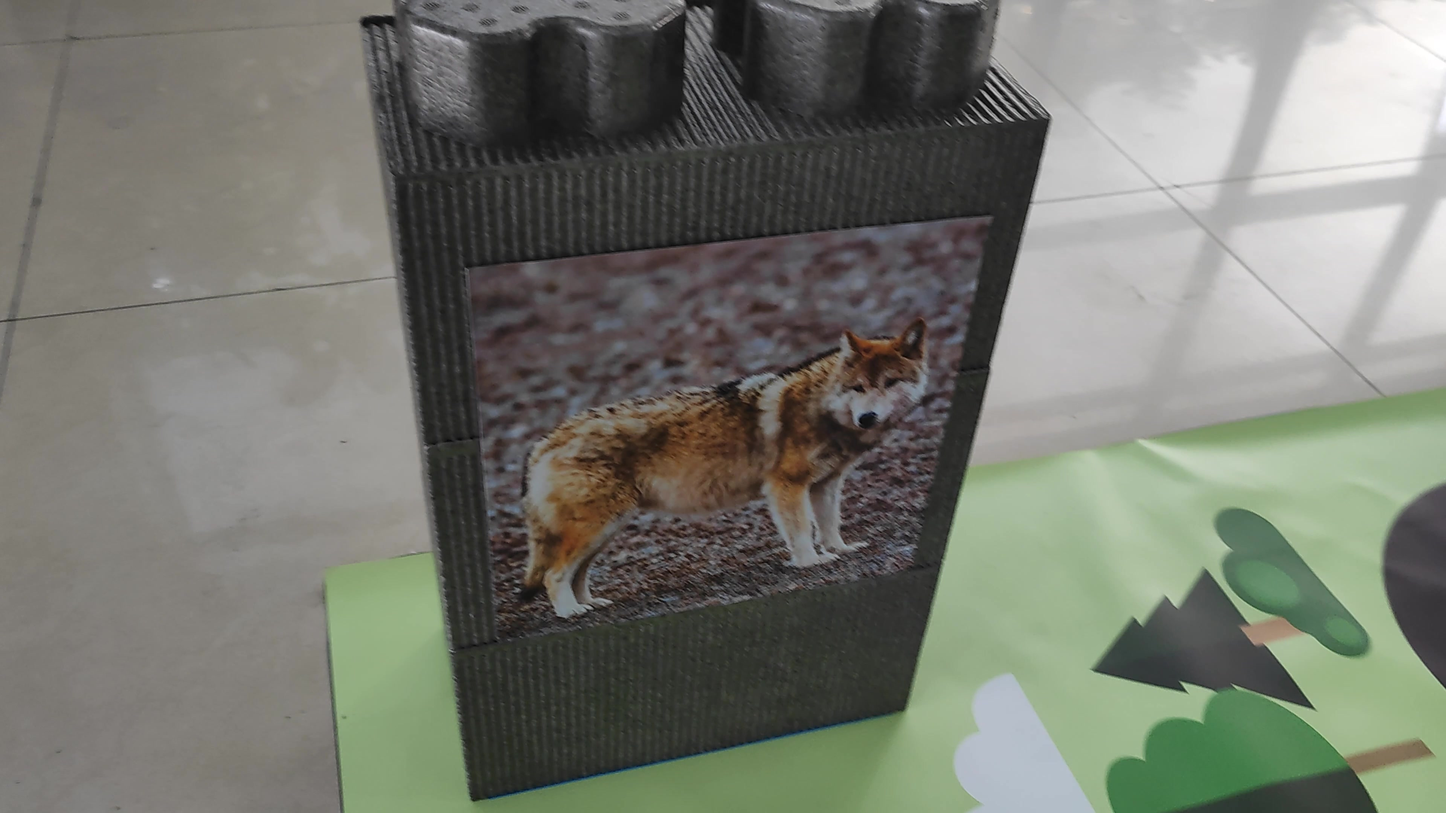wolf: (505, 292, 932, 634)
